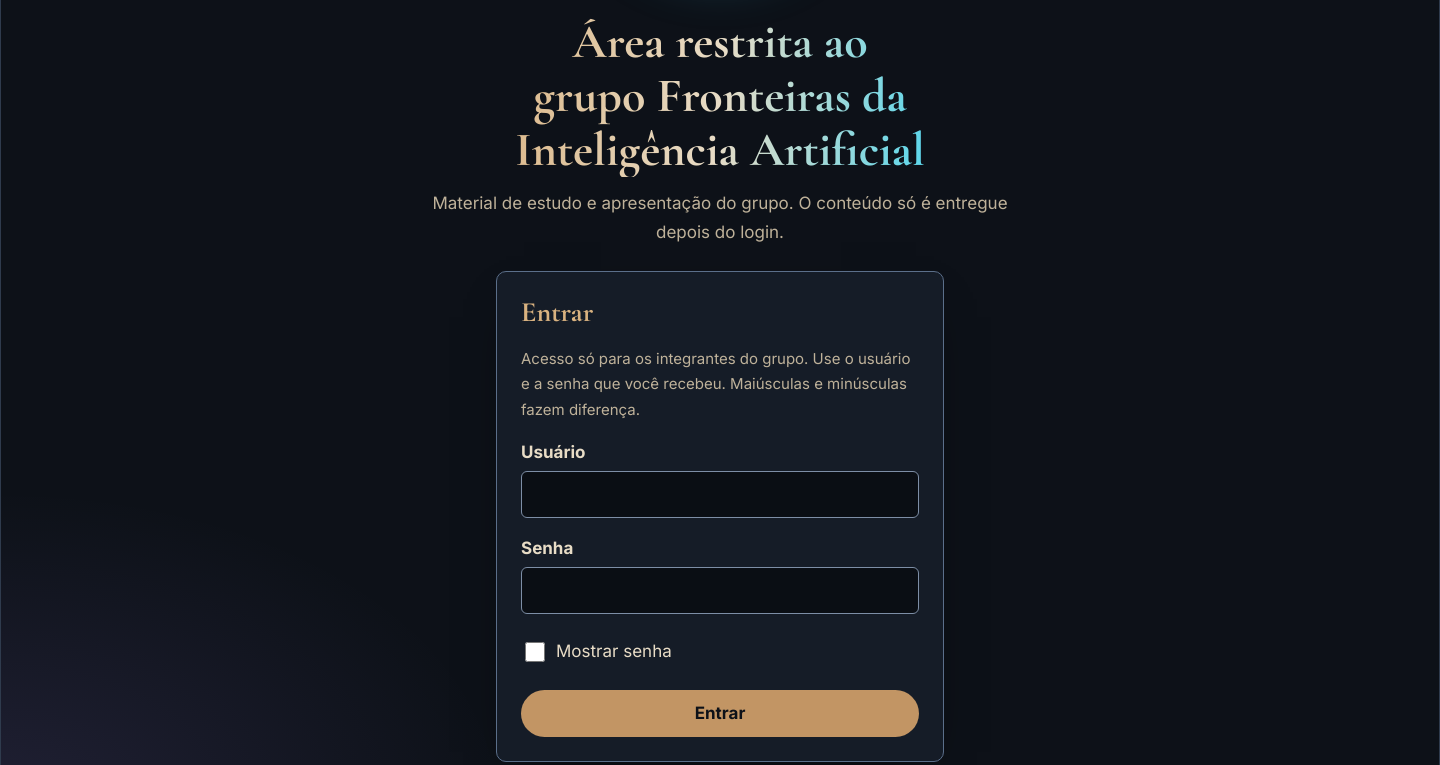
Test: AreaRestrita › login errado mostra o erro e continua na splash
(page scrolled)
In the field named "usuario": (720,495) [521,471,919,518], type "u"
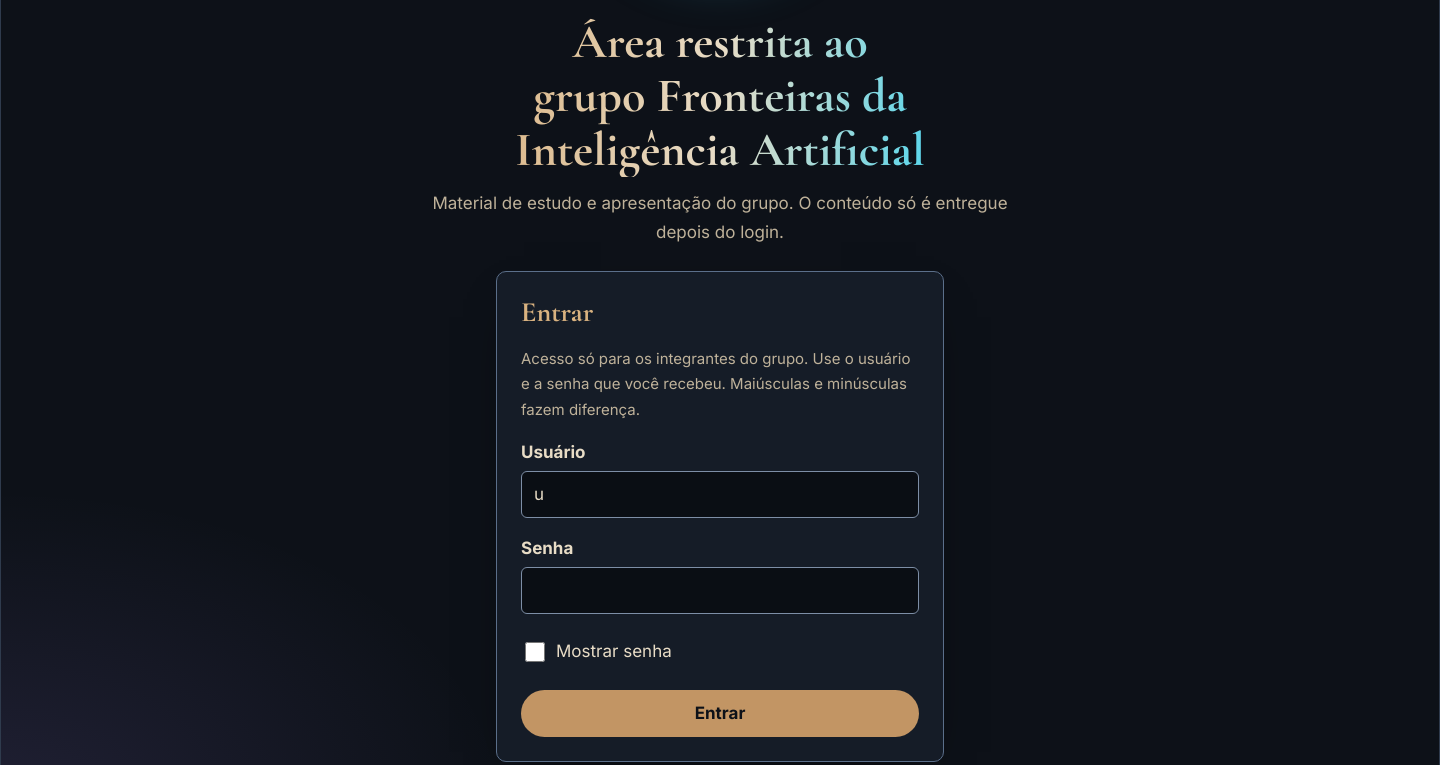
In the password field named "senha": (720,590) [521,567,919,614], type "x"
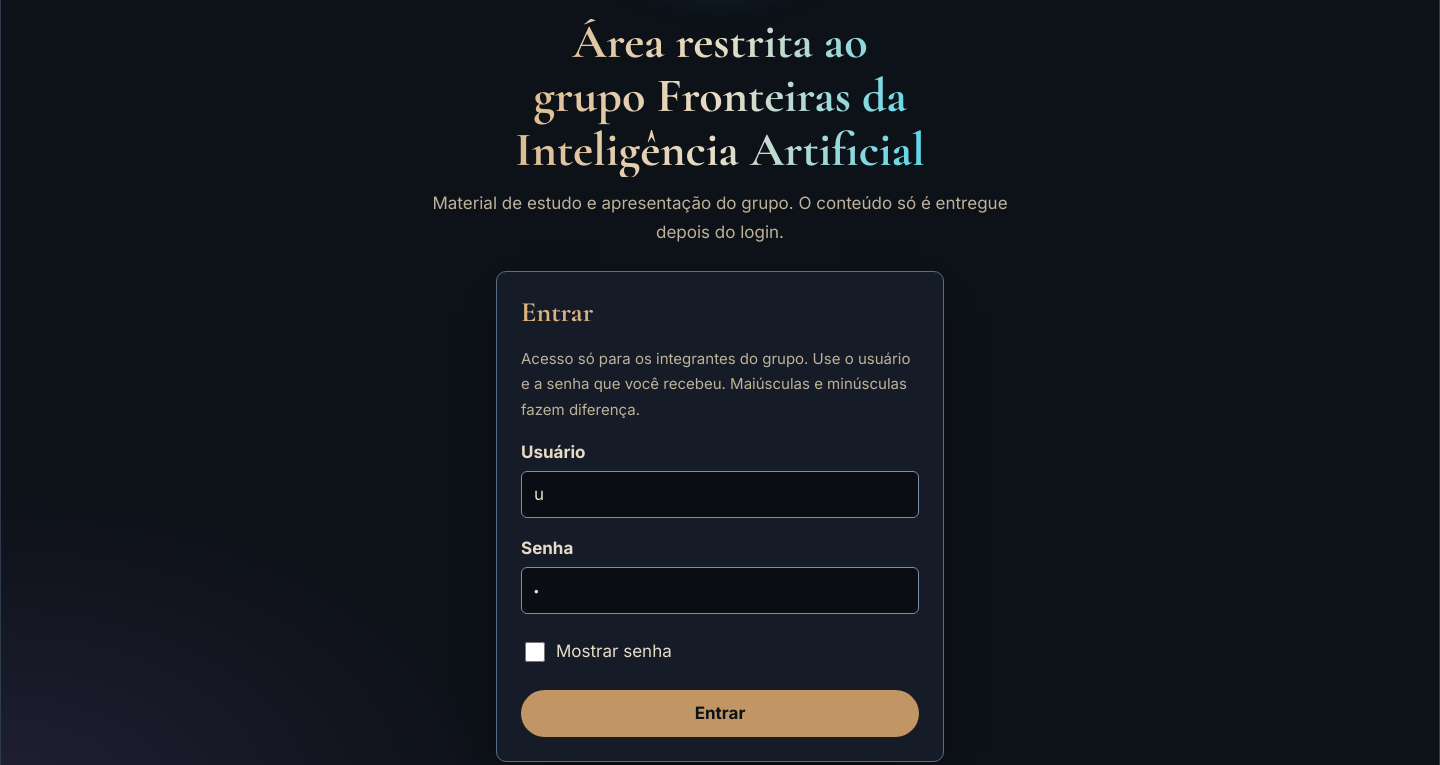
Submit the form, box [496,271,944,762]
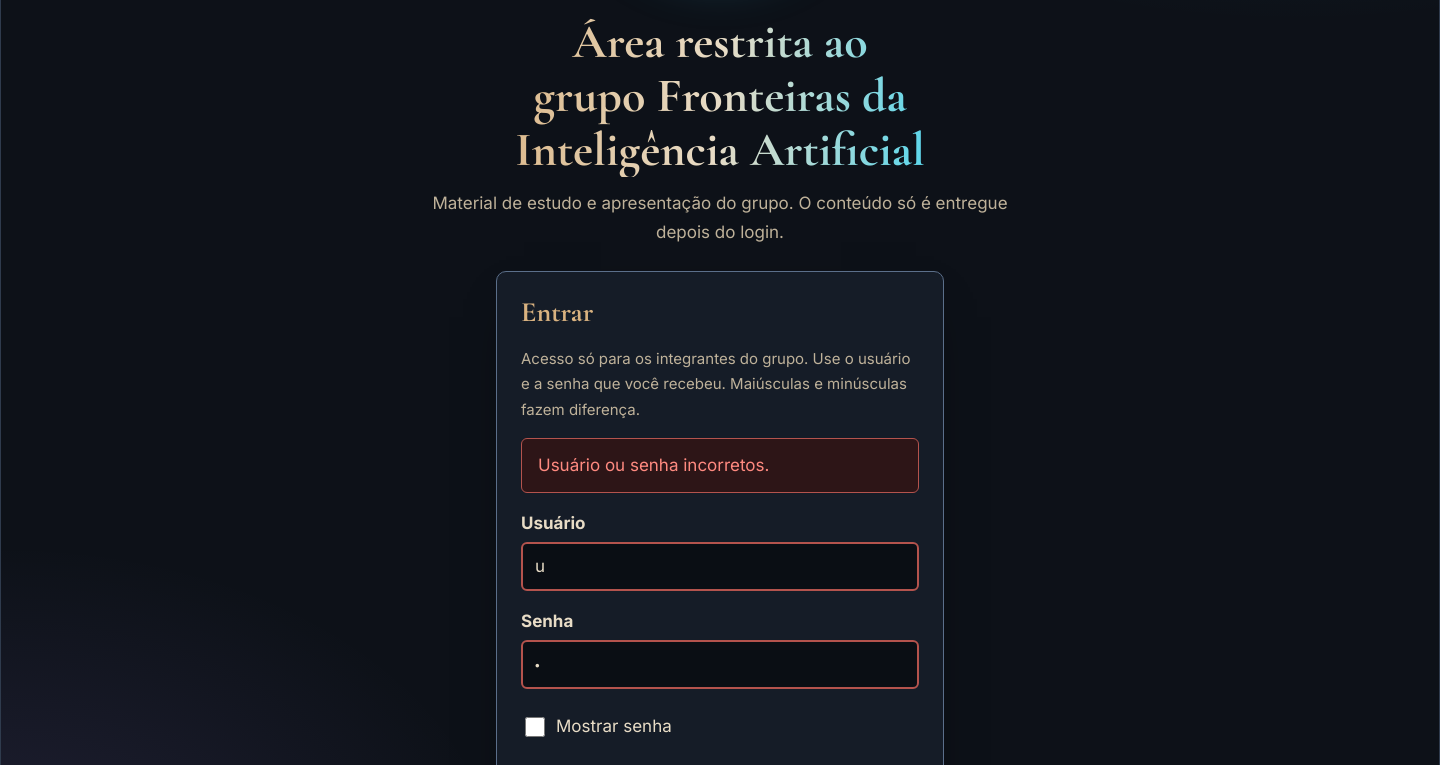
Result: the message "Usuário ou senha incorretos." is shown at [521,438,919,493]
